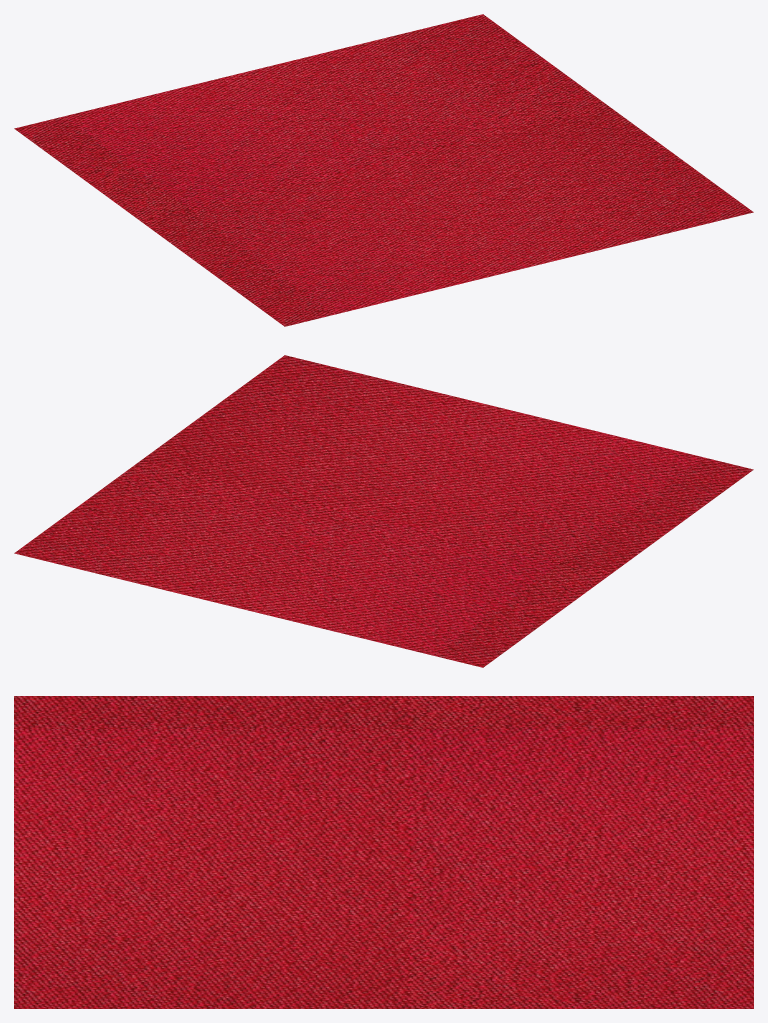
File: telaroja1.fbx
3 renders of one model, top to bottom at view 1: azimuth 30°, elevation 25°; view 2: azimuth 150°, elevation 25°; view 3: azimuth 270°, elevation 25°, orthographic. The views are drawn at different scales.
Visible parts, largest first — view 1: Cube; view 2: Cube; view 3: Cube.
Part boxes in pixels (x1,y1,x2,y2): Cube: (14,14,753,326); Cube: (14,355,753,667); Cube: (14,696,753,1008).
Bounding box in the file's own units: 200 × 0.000233 × 200.
1 material, 1 textured.
